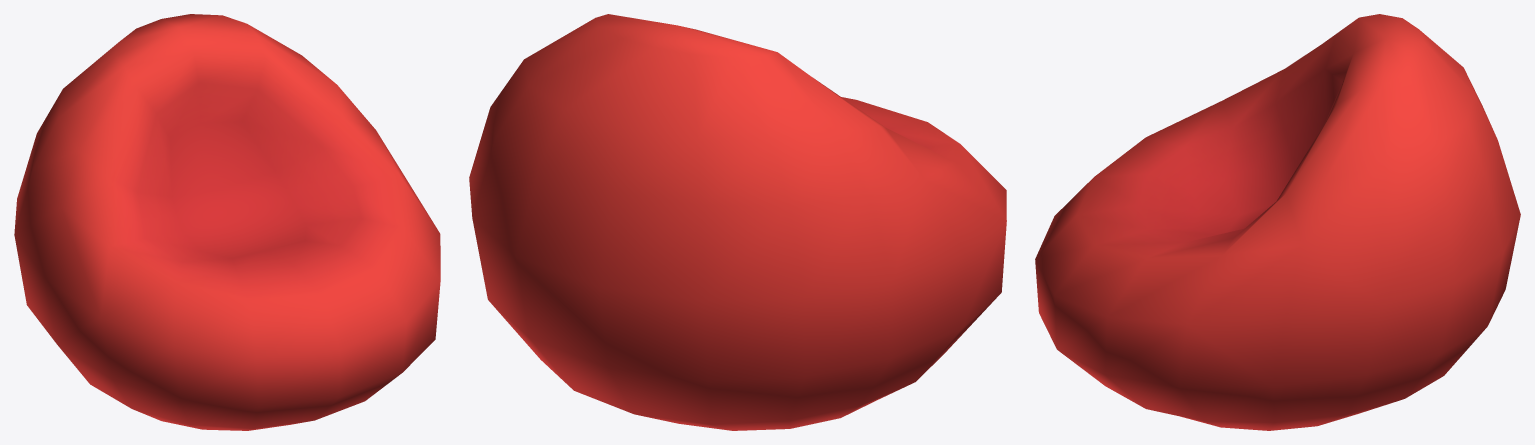
The model's file is Furniture_Sofa_02.fbx.
The picture shows the model from 3 angles, left to right: view 1: azimuth 30°, elevation 25°; view 2: azimuth 150°, elevation 25°; view 3: azimuth 270°, elevation 25°; orthographic projection. The views are drawn at different scales.
Visible parts, largest first — view 1: Furniture_Sofa_02; view 2: Furniture_Sofa_02; view 3: Furniture_Sofa_02.
Part boxes in pixels (x1,y1,x2,y2): Furniture_Sofa_02: (14,14,440,430); Furniture_Sofa_02: (469,14,1006,430); Furniture_Sofa_02: (1035,14,1520,430).
Bounding box in the file's own units: 182 × 150 × 194.
